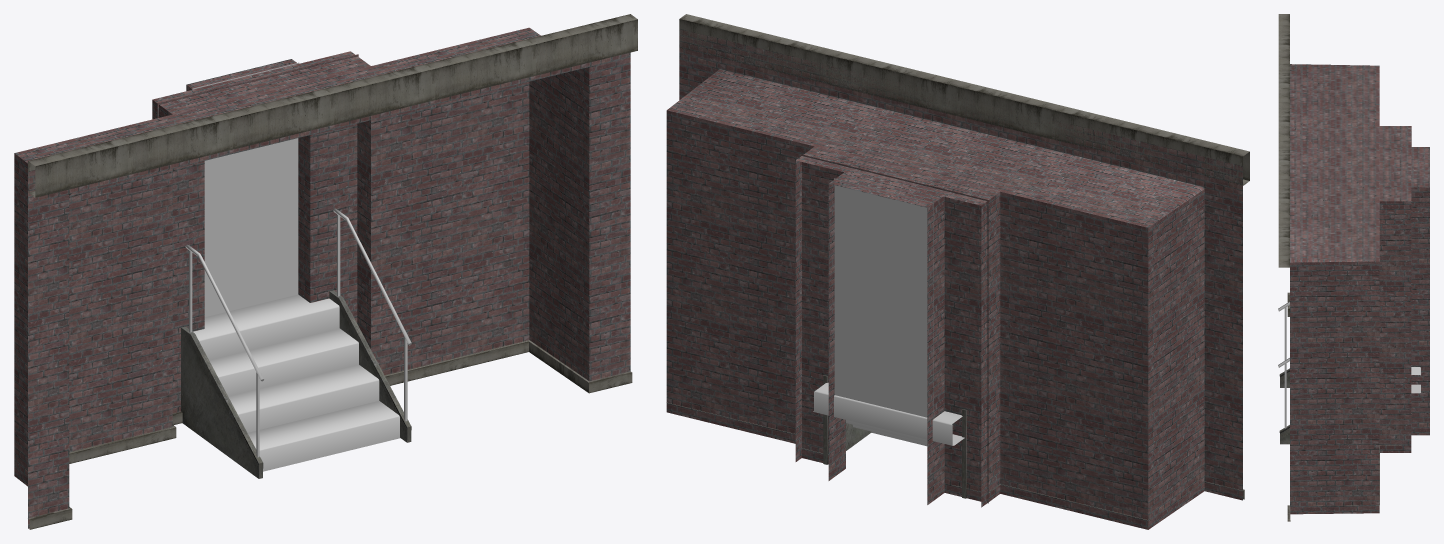
Rendered from W_RectangleIn_Door_6x.FBX.
3 renders of one model, left to right at view 1: azimuth 30°, elevation 25°; view 2: azimuth 150°, elevation 25°; view 3: azimuth 270°, elevation 25°, orthographic. The views are drawn at different scales.
Visible parts, largest first — view 1: W_RectangleIn_Door_6x; view 2: W_RectangleIn_Door_6x; view 3: W_RectangleIn_Door_6x.
Boxes of the visible parts, x1,y1,x2,y2 form: W_RectangleIn_Door_6x: (14, 14, 637, 529); W_RectangleIn_Door_6x: (666, 14, 1249, 529); W_RectangleIn_Door_6x: (1278, 14, 1429, 521).
Size of the model in its own units: 600 by 351 by 168.
